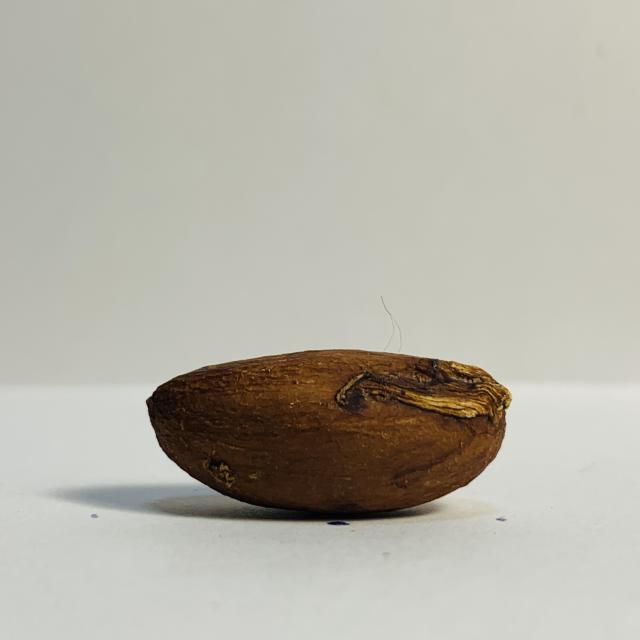Fine_cocoabeans: (58, 312, 572, 598)
